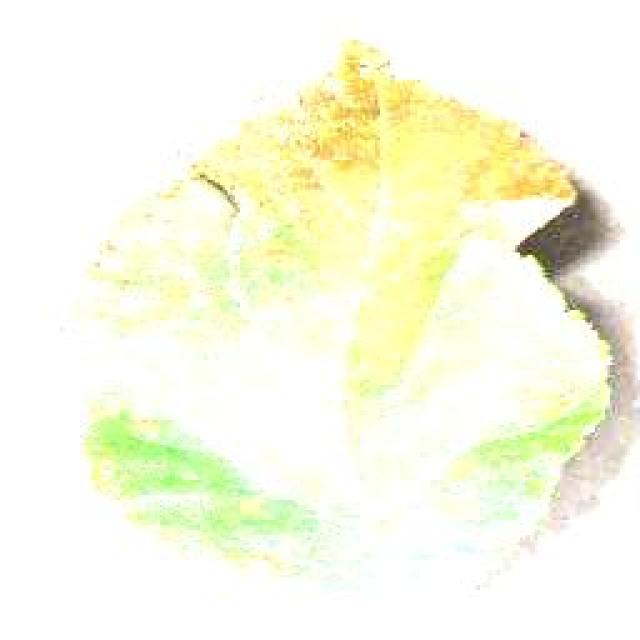Apple___Cedar_apple_rust: (51, 16, 620, 611)
